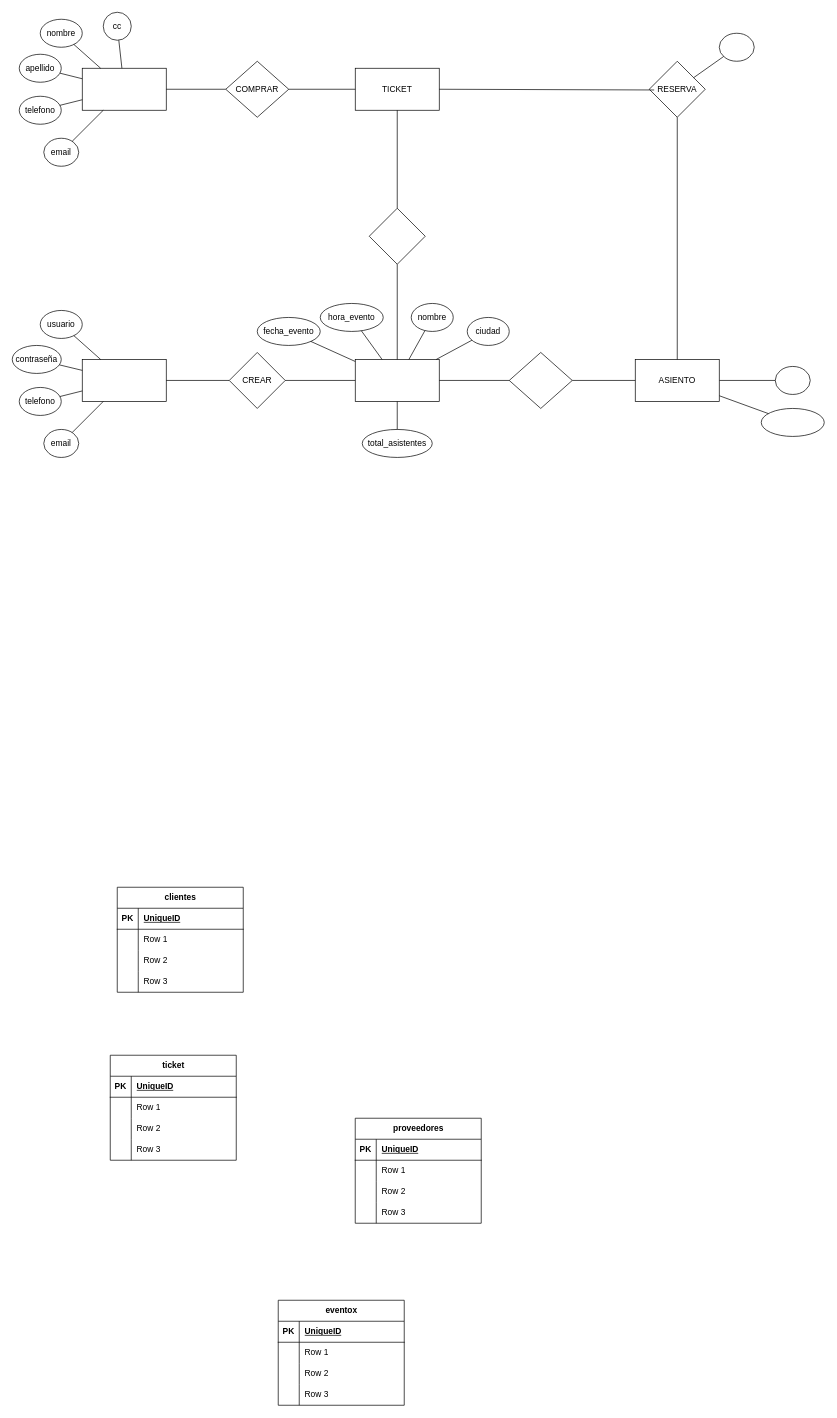
This 837x1418 diagram has some shape labels left out. Each missing label, with the centre of its shape:
"aforo" goes at pixel 792 380.
"CLIENTE" goes at pixel 124 89.
"direccion_lugar" goes at pixel 792 422.
"EVENTO" goes at pixel 397 380.
"GENERA" goes at pixel 397 236.
"LOCALIZA" goes at pixel 540 380.
"PROVEEDOR" goes at pixel 124 380.
"valor" goes at pixel 736 47.
